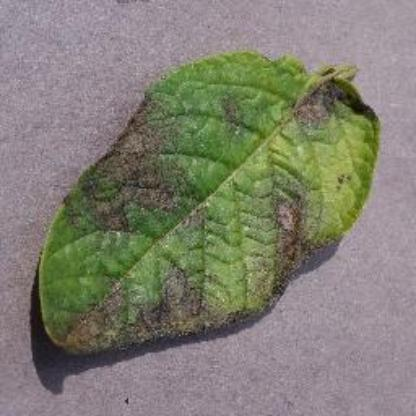Late-Blight: (40, 37, 386, 369)
